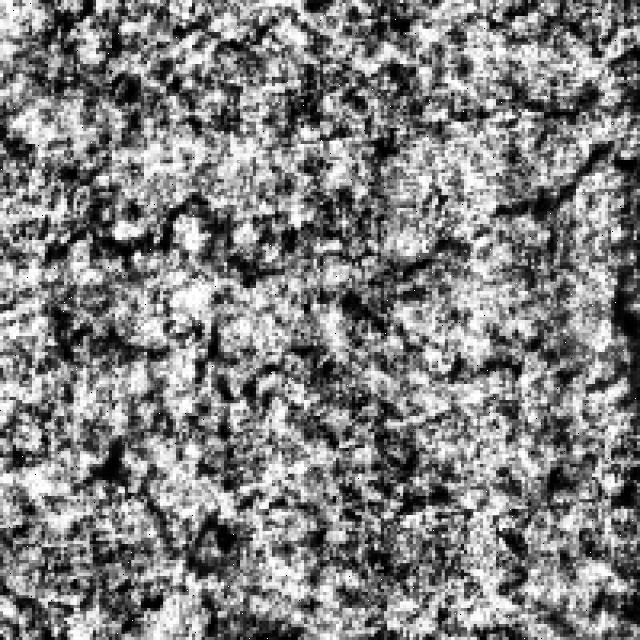Pitted_Surface: (41, 131, 636, 400), (0, 432, 234, 634)
